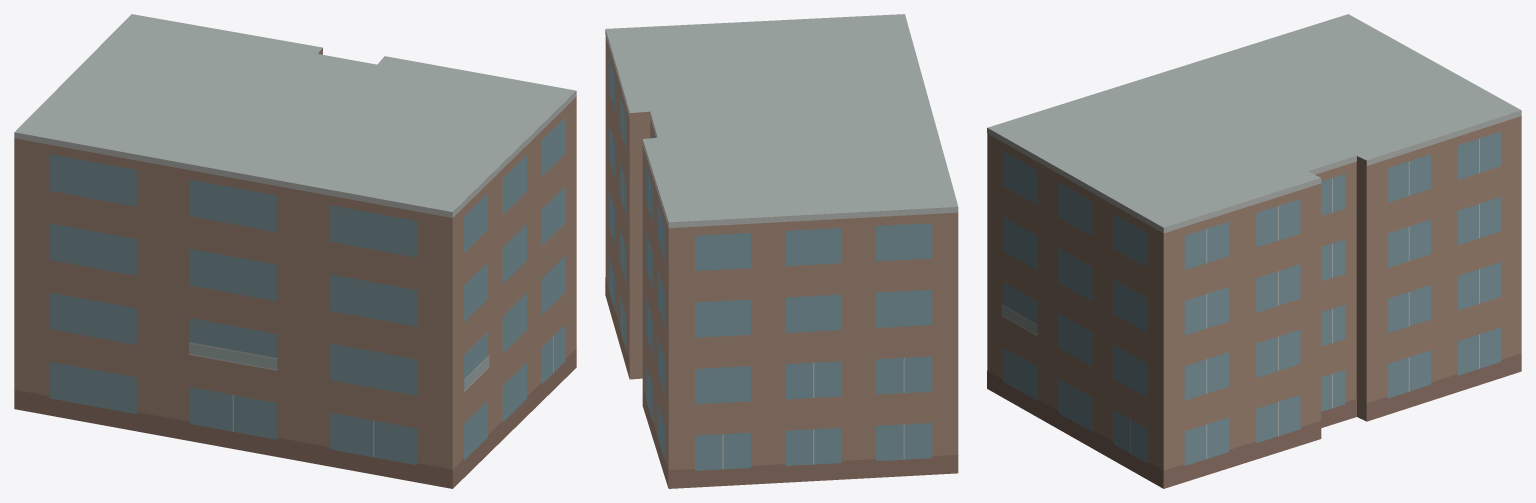
The model's file is survey-upis-32688013.glb.
The picture shows the model from 3 angles, left to right: view 1: azimuth 30°, elevation 25°; view 2: azimuth 150°, elevation 25°; view 3: azimuth 270°, elevation 25°; orthographic projection. The views are drawn at different scales.
Visible parts, largest first — view 1: survey-upis-32688013.tmp; view 2: survey-upis-32688013.tmp; view 3: survey-upis-32688013.tmp.
Boxes of the visible parts, x1,y1,x2,y2 form: survey-upis-32688013.tmp: (14, 14, 576, 488); survey-upis-32688013.tmp: (605, 14, 958, 488); survey-upis-32688013.tmp: (987, 14, 1521, 488).
Size of the model in its own units: 19.94 by 11.35 by 21.07.
